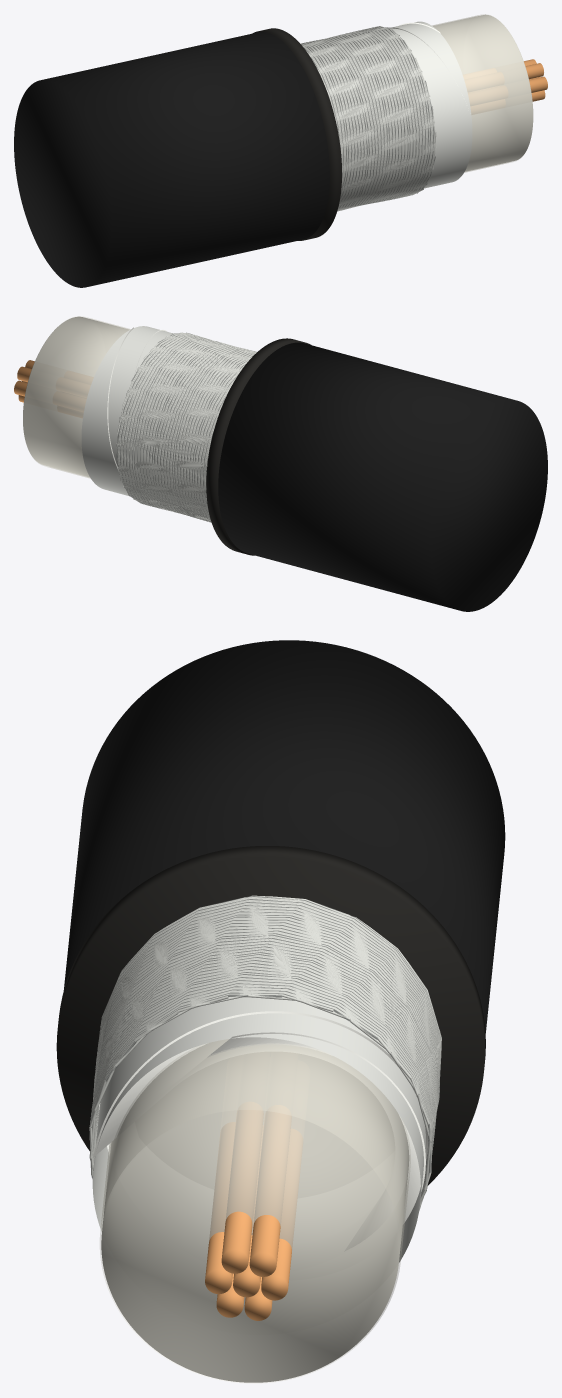
Rendered from rf-lmr400uf.glb.
3 views of the same model, one above another, from view 1: azimuth 30°, elevation 25°; view 2: azimuth 150°, elevation 25°; view 3: azimuth 270°, elevation 25° (orthographic). The views are drawn at different scales.
Parts seen in each view (by area): view 1: matte black pvc jacket body, smooth dielectric skin, gas injected foam dielectric, duobond foil sleeve, jacket cut lip, braid left hand carrier 20, braid left hand carrier 17, braid left hand carrier 02, braid left hand carrier 14, braid left hand carrier 05, braid left hand carrier 18, braid left hand carrier 15 (+33 smaller); view 2: matte black pvc jacket body, smooth dielectric skin, gas injected foam dielectric, duobond foil sleeve, jacket cut lip, braid left hand carrier 14, braid left hand carrier 11, braid left hand carrier 17, braid left hand carrier 08, braid left hand carrier 20, braid left hand carrier 12, braid left hand carrier 15 (+33 smaller); view 3: matte black pvc jacket body, gas injected foam dielectric, jacket cut lip, smooth dielectric skin, duobond foil sleeve, subtle foil wrap lap, 7 strand center conductor 03, 7 strand center conductor 04, braid left hand carrier 03, braid left hand carrier 06, braid left hand carrier 20, braid left hand carrier 18 (+18 smaller).
Boxes of the visible parts, box(x1,y1,x2,y2) form: matte black pvc jacket body: box(14, 32, 329, 287); smooth dielectric skin: box(432, 14, 532, 172); gas injected foam dielectric: box(433, 14, 533, 171); duobond foil sleeve: box(389, 21, 472, 188); jacket cut lip: box(252, 28, 341, 240); braid left hand carrier 20: box(302, 26, 430, 210); braid left hand carrier 17: box(303, 26, 426, 211); braid left hand carrier 02: box(300, 30, 432, 210); braid left hand carrier 14: box(308, 27, 423, 209); braid left hand carrier 05: box(302, 29, 435, 209); braid left hand carrier 18: box(303, 26, 427, 207); braid left hand carrier 15: box(306, 27, 424, 210); matte black pvc jacket body: box(218, 342, 547, 611); smooth dielectric skin: box(23, 316, 130, 478); gas injected foam dielectric: box(23, 316, 129, 477); duobond foil sleeve: box(81, 326, 172, 496); jacket cut lip: box(206, 338, 310, 555); braid left hand carrier 14: box(118, 334, 256, 518); braid left hand carrier 11: box(121, 335, 256, 519); braid left hand carrier 17: box(117, 334, 255, 518); braid left hand carrier 08: box(124, 336, 253, 520); braid left hand carrier 20: box(132, 333, 252, 521); braid left hand carrier 12: box(120, 335, 256, 519); braid left hand carrier 15: box(117, 334, 253, 518); matte black pvc jacket body: box(63, 640, 505, 1032); gas injected foam dielectric: box(101, 1039, 409, 1382); jacket cut lip: box(56, 846, 485, 1185); smooth dielectric skin: box(100, 1039, 410, 1383); duobond foil sleeve: box(92, 996, 425, 1262); subtle foil wrap lap: box(93, 1011, 427, 1250); 7 strand center conductor 03: box(249, 1111, 291, 1276); 7 strand center conductor 04: box(221, 1110, 263, 1273); braid left hand carrier 03: box(90, 897, 440, 1159); braid left hand carrier 06: box(89, 900, 440, 1176); braid left hand carrier 20: box(90, 895, 441, 1155); braid left hand carrier 18: box(91, 913, 441, 1152).
Bounding box in the file's own units: 6.56 × 2.6 × 2.72.
